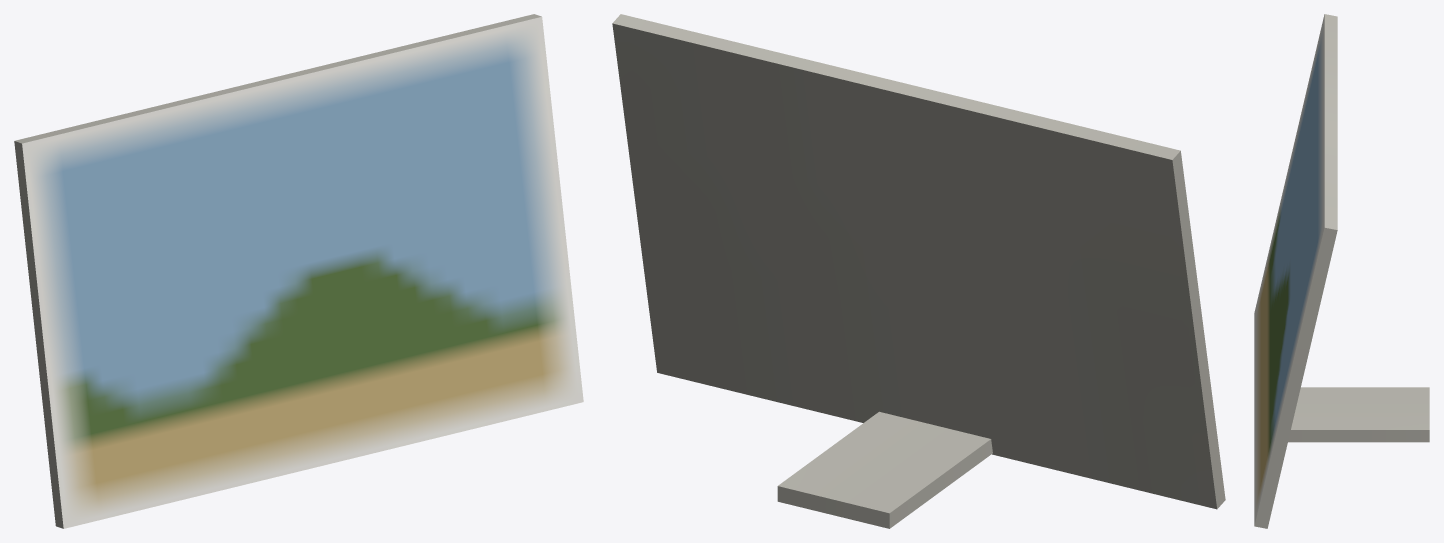
Rendered from photo_prison.fbx.
3 views of the same model, side by side, from view 1: azimuth 30°, elevation 25°; view 2: azimuth 150°, elevation 25°; view 3: azimuth 270°, elevation 25° (orthographic). The views are drawn at different scales.
Visible parts, largest first — view 1: photo_prison; view 2: photo_prison; view 3: photo_prison.
Part boxes in pixels (x1,y1,x2,y2): photo_prison: [14, 14, 583, 528]; photo_prison: [612, 14, 1225, 528]; photo_prison: [1254, 14, 1429, 528].
Bounding box in the file's own units: 0.15 × 0.0986 × 0.052.
1 material, 1 textured.
